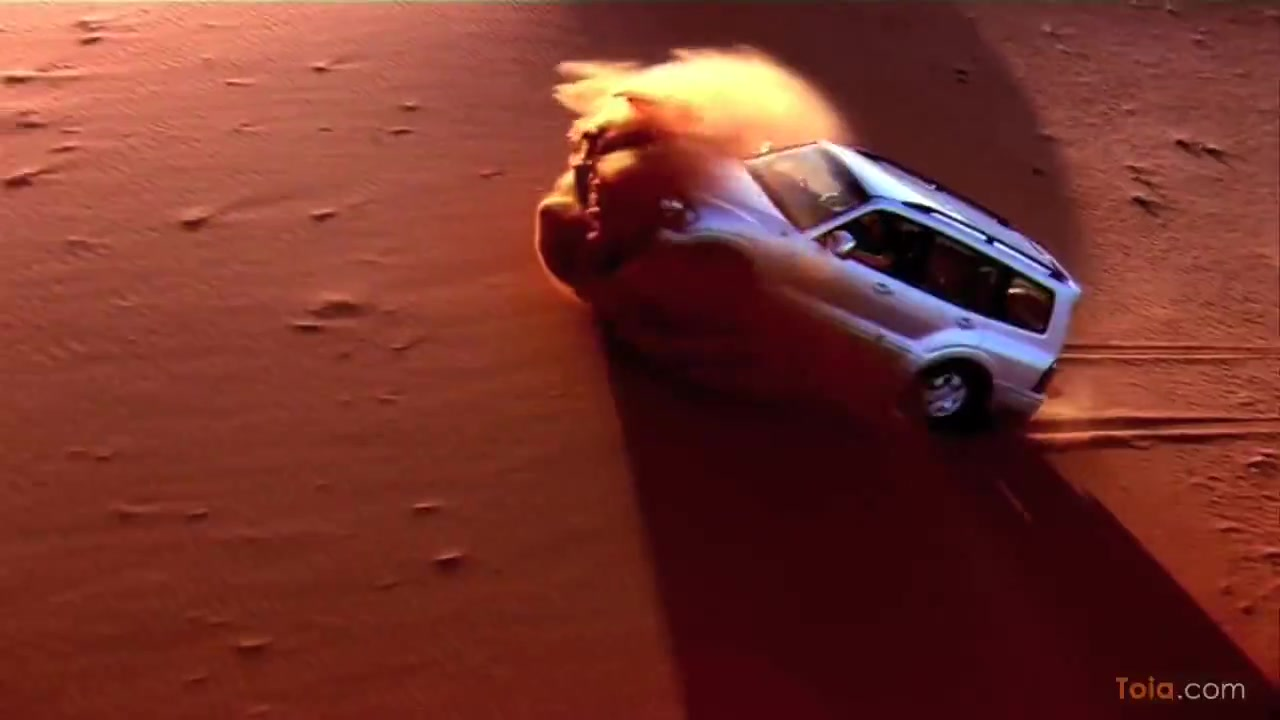car: (595, 134, 1081, 452)
